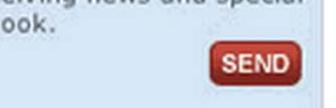button: (209, 39, 303, 89)
